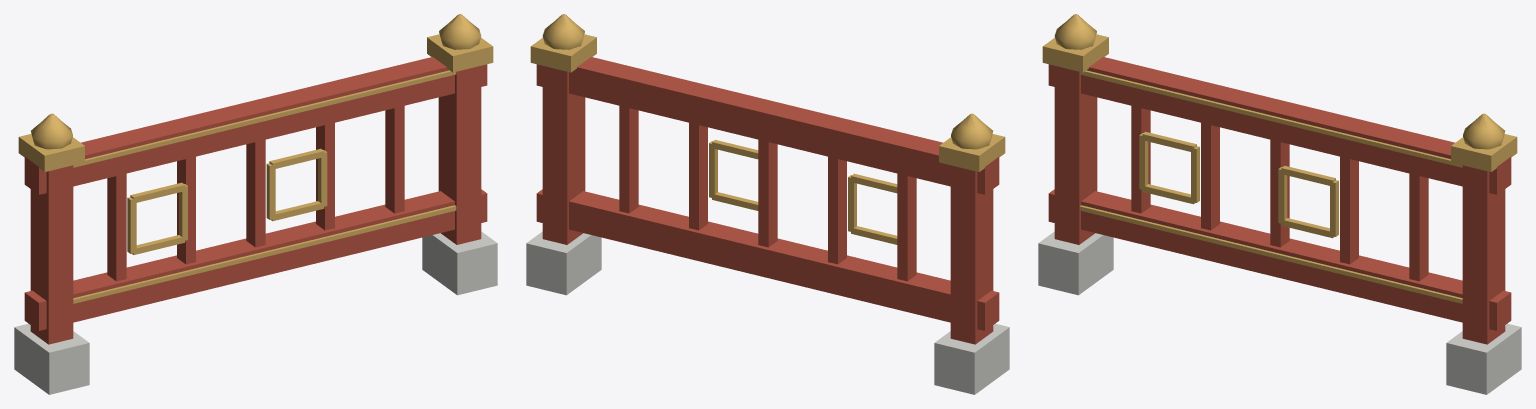
The model's file is balustrade.glb.
The picture shows the model from 3 angles, left to right: view 1: azimuth 30°, elevation 25°; view 2: azimuth 150°, elevation 25°; view 3: azimuth 330°, elevation 25°; orthographic projection.
Parts seen in each view (by area): view 1: balustrade_Timber, balustrade_Gold, balustrade_Stone; view 2: balustrade_Timber, balustrade_Gold, balustrade_Stone; view 3: balustrade_Timber, balustrade_Gold, balustrade_Stone.
Part boxes in pixels (x1,y1,x2,y2): balustrade_Timber: (24,57,487,344); balustrade_Gold: (18,14,493,303); balustrade_Stone: (14,231,497,394); balustrade_Timber: (536,57,999,344); balustrade_Gold: (530,14,1005,244); balustrade_Stone: (526,231,1009,394); balustrade_Timber: (1048,57,1511,344); balustrade_Gold: (1042,14,1517,303); balustrade_Stone: (1038,231,1521,394).
Size of the model in its own units: 2 by 1.12 by 0.27.
